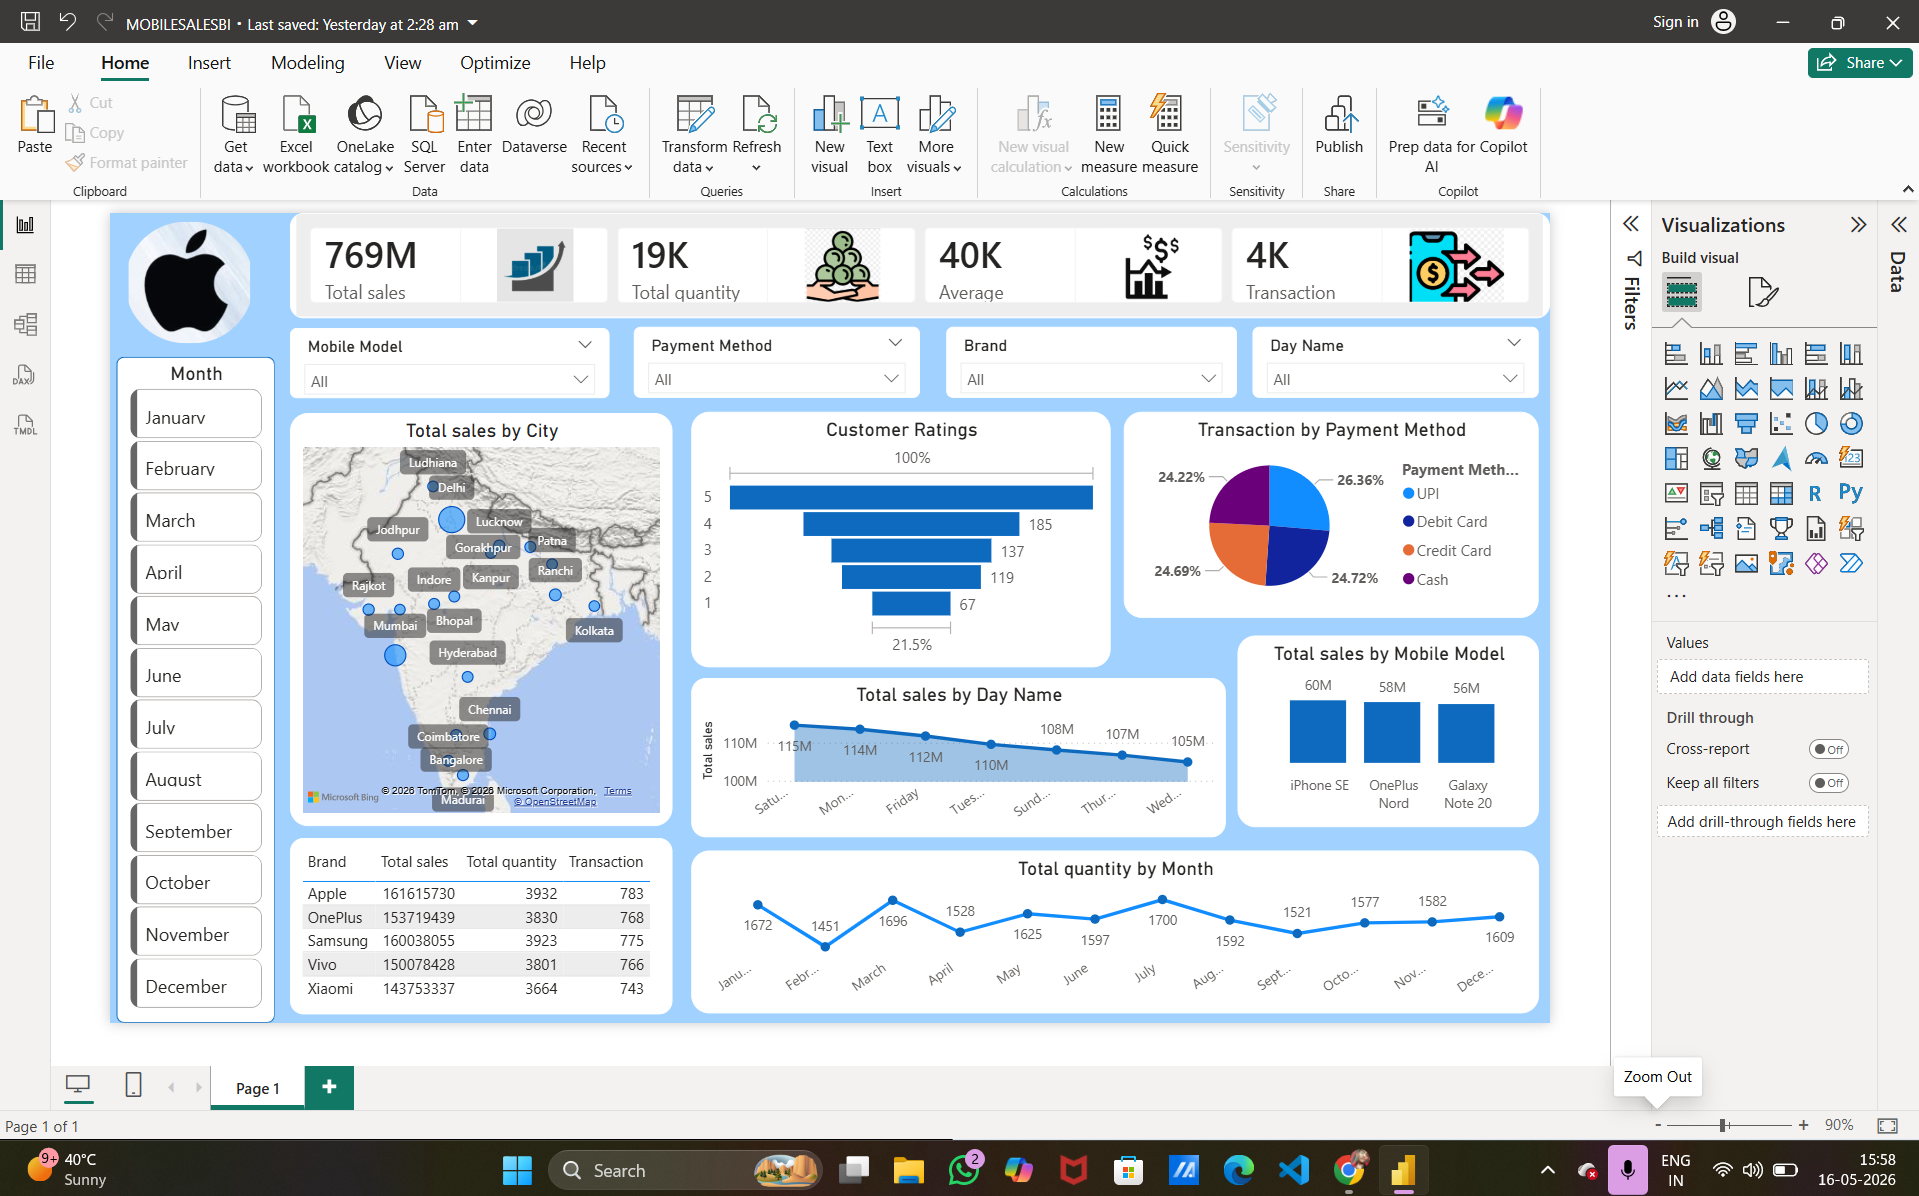

This screenshot's page, from the dashboard's own definition file:
{"tool":"powerbi","page":{"name":"Page 1","canvas":[1280,720],"ordinal":0},"visuals":[{"type":"shape","box":[5.6,127.8,141.1,592.2],"z":0},{"type":"advancedSlicerVisual","fields":{"Values":["sales data.Date.Variation.Date Hierarchy.Month"]},"box":[13.8,132.5,127.5,587.5],"z":1000},{"type":"image","box":[13.3,7.8,114.4,107.8],"z":2000},{"type":"cardVisual","fields":{"Data":["sales data.Total sales","sales data.Total quantity","sales data.Average","sales data.Transaction"]},"box":[160,0,1120,93.3],"z":3000},{"type":"map","fields":{"Category":["sales data.City"],"Size":["sales data.Total sales"]},"box":[160,177.5,340,367.5],"z":4000},{"type":"lineChart","fields":{"Category":["sales data.Date.Variation.Date Hierarchy.Month"],"Y":["sales data.Total quantity"]},"box":[516.7,566.7,753.3,145],"z":5000},{"type":"clusteredColumnChart","fields":{"Category":["sales data.Mobile Model"],"Y":["sales data.Total sales"]},"box":[1001.7,375,268.3,170],"z":6000},{"type":"pieChart","fields":{"Category":["sales data.Payment Method"],"Y":["sales data.Transaction"]},"box":[901.4,177.1,368.6,182.9],"z":7000},{"type":"funnel","title":"Customer Ratings","fields":{"Category":["sales data.Customer Ratings"],"Y":["CountNonNull(sales data.Customer Ratings)"]},"box":[517.1,177.1,372.9,227.1],"z":8000},{"type":"areaChart","fields":{"Y":["sales data.Total sales"],"Category":["sales data.Day Name"]},"box":[516.7,413.3,475,141.7],"z":9000},{"type":"tableEx","fields":{"Values":["sales data.Brand","sales data.Total sales","sales data.Total quantity","sales data.Transaction"]},"box":[160,555,340,156.7],"z":10000},{"type":"slicer","fields":{"Values":["sales data.Mobile Model"]},"box":[160,102,284,62],"z":10001},{"type":"slicer","fields":{"Values":["sales data.Brand"]},"box":[742.9,101.4,258.6,62.9],"z":10002},{"type":"slicer","fields":{"Values":["sales data.Day Name"]},"box":[1015.7,101.4,254.3,62.9],"z":10003},{"type":"slicer","fields":{"Values":["sales data.Payment Method"]},"box":[465.7,101.4,254.3,62.9],"z":10004}]}

Visuals, with their boxes on the page's 1280x720 design canvas (x1, y1, x2, y2). These are canvas units, not pixel positions in the 1919x1196 screenshot, which may show the page scaled, cropped or inside an application window:
shape: Rect(6, 128, 147, 720)
advancedSlicerVisual - sales data.Date.Variation.Date Hierarchy.Month: Rect(14, 132, 141, 720)
image: Rect(13, 8, 128, 116)
cardVisual - sales data.Total sales x sales data.Total quantity: Rect(160, 0, 1280, 93)
map - sales data.City x sales data.Total sales: Rect(160, 178, 500, 545)
lineChart - sales data.Date.Variation.Date Hierarchy.Month x sales data.Total quantity: Rect(517, 567, 1270, 712)
clusteredColumnChart - sales data.Mobile Model x sales data.Total sales: Rect(1002, 375, 1270, 545)
pieChart - sales data.Payment Method x sales data.Transaction: Rect(901, 177, 1270, 360)
"Customer Ratings" funnel: Rect(517, 177, 890, 404)
areaChart - sales data.Total sales x sales data.Day Name: Rect(517, 413, 992, 555)
tableEx - sales data.Brand x sales data.Total sales: Rect(160, 555, 500, 712)
slicer - sales data.Mobile Model: Rect(160, 102, 444, 164)
slicer - sales data.Brand: Rect(743, 101, 1002, 164)
slicer - sales data.Day Name: Rect(1016, 101, 1270, 164)
slicer - sales data.Payment Method: Rect(466, 101, 720, 164)
